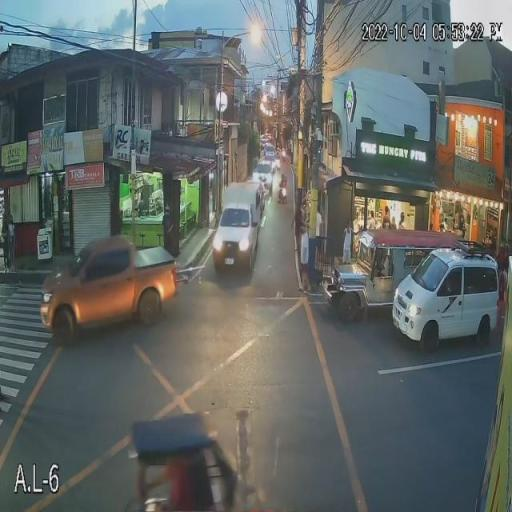motorcycle: (277, 185, 289, 206)
